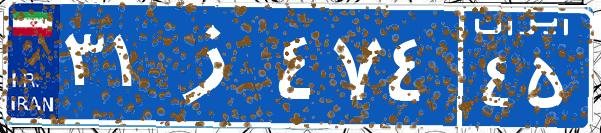1: (110, 28, 158, 105)
3: (57, 26, 110, 107)
4: (385, 28, 445, 110), (273, 28, 330, 110), (475, 38, 525, 113)
5: (525, 38, 570, 115)
7: (330, 28, 385, 110)
ز: (158, 15, 273, 115)
